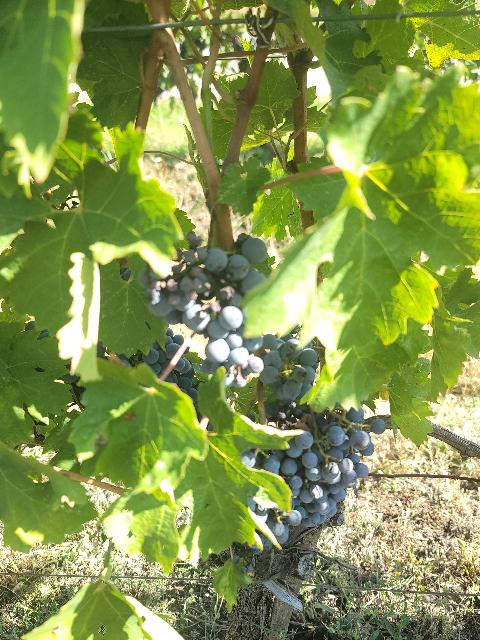grapes: (139, 232, 269, 386), (240, 431, 320, 544), (300, 422, 374, 516)
